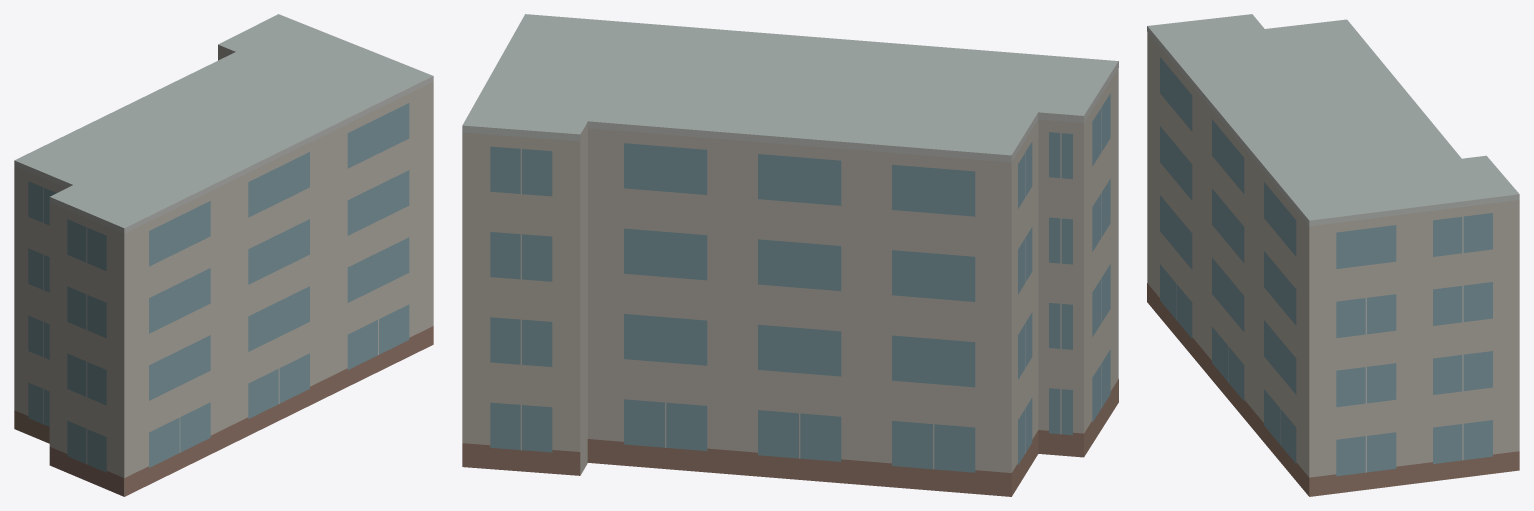
File: survey-upis-32702313.glb
3 renders of one model, left to right at view 1: azimuth 30°, elevation 25°; view 2: azimuth 150°, elevation 25°; view 3: azimuth 270°, elevation 25°, orthographic. The views are drawn at different scales.
Visible parts, largest first — view 1: survey-upis-32702313.tmp; view 2: survey-upis-32702313.tmp; view 3: survey-upis-32702313.tmp.
Part boxes in pixels (x1,y1,x2,y2): survey-upis-32702313.tmp: (14, 14, 433, 496); survey-upis-32702313.tmp: (462, 14, 1118, 496); survey-upis-32702313.tmp: (1147, 14, 1519, 496).
Bounding box in the file's own units: 19.18 × 11.95 × 14.61.
